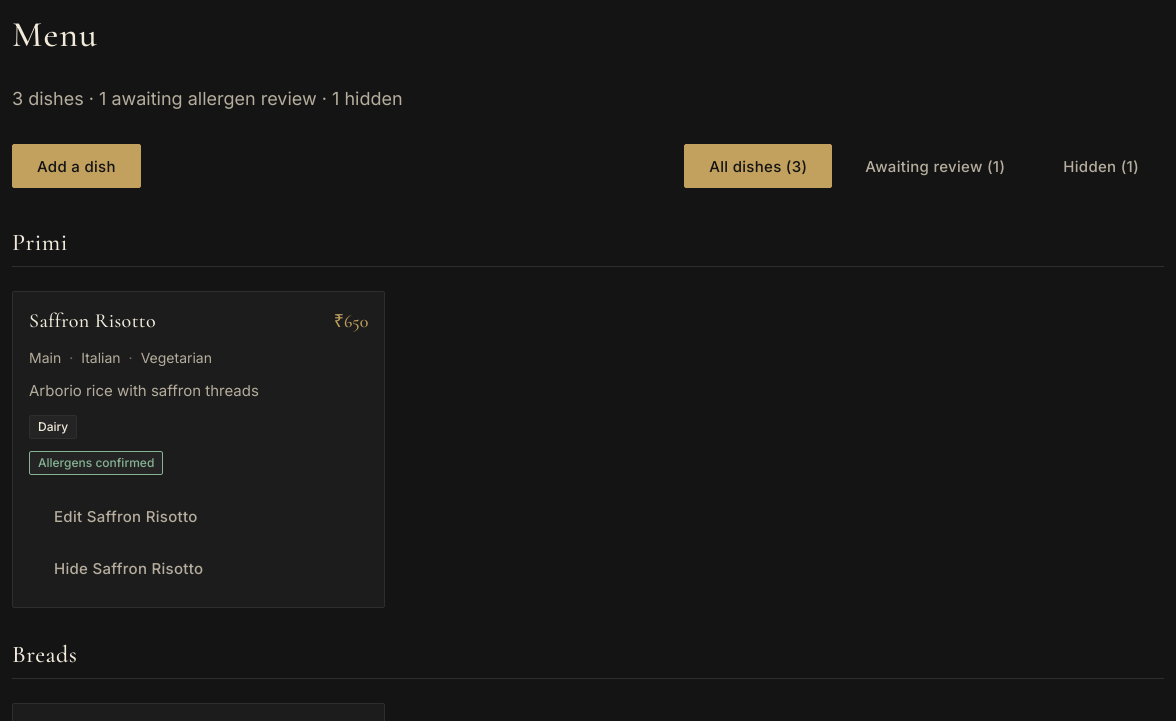
it: MenuManager page › 8. filter buttons show corresponding dishes and empty filter message
Check: the heading "Saffron Risotto" is shown, box [29, 309, 156, 334]
Click the button "Awaiting review (1)" at coordinates (935, 166), box [840, 144, 1030, 188]
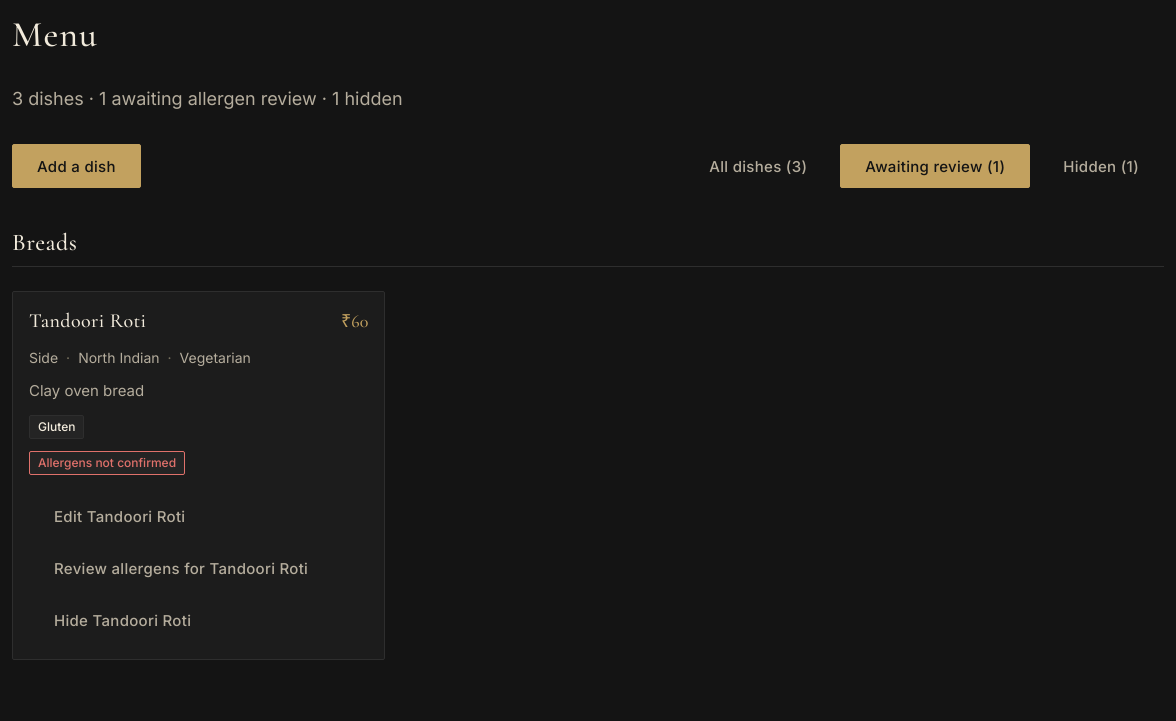
Check: the heading "Tandoori Roti" is shown, box [29, 309, 146, 334]
Check: the heading "Saffron Risotto" is gone
Click the button "Hidden (1)" at coordinates (1101, 166), box [1038, 144, 1164, 188]
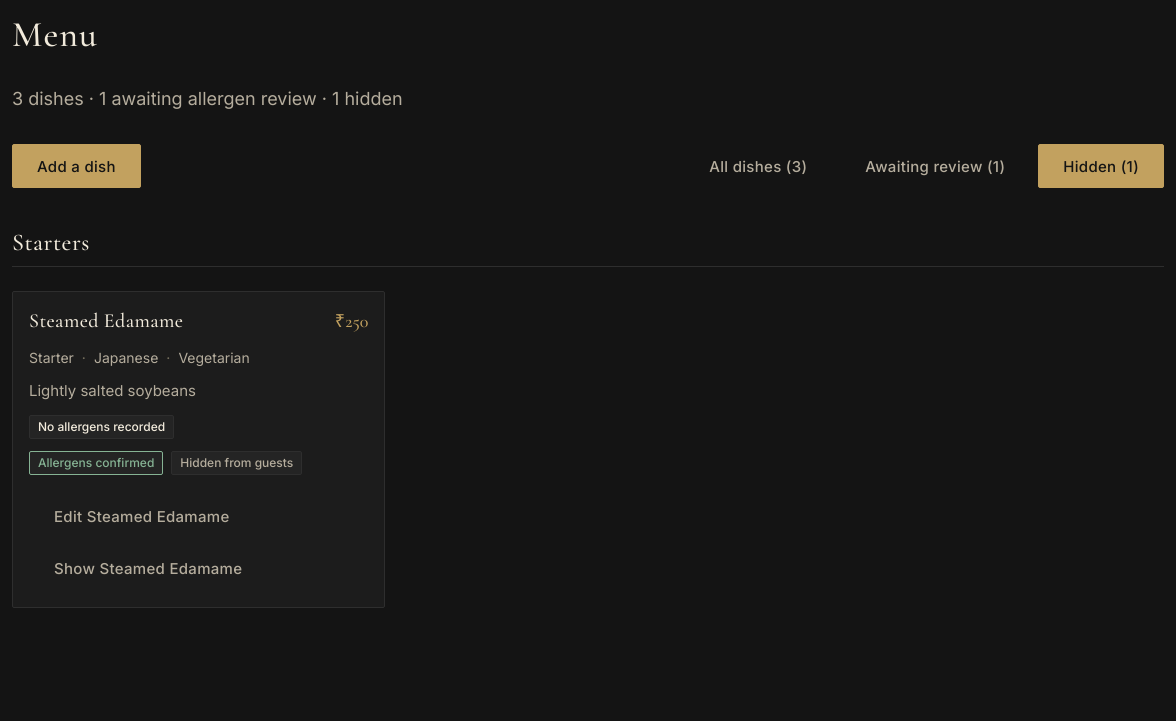
Check: the heading "Saffron Risotto" is not shown
Check: the heading "Tandoori Roti" is gone
Check: the heading "Steamed Edamame" is shown, box [29, 309, 184, 334]
